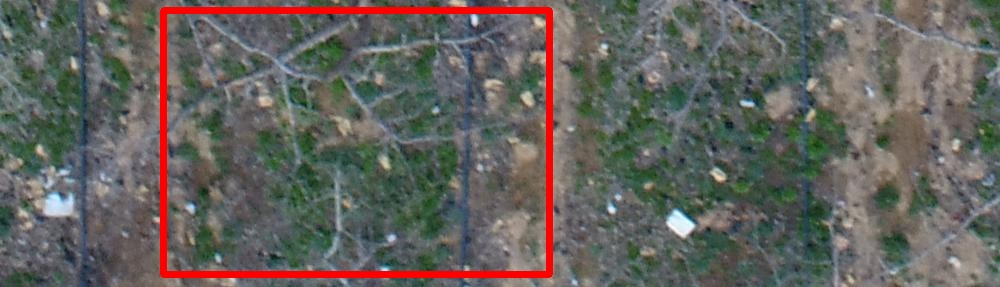apple: (163, 10, 549, 274)
